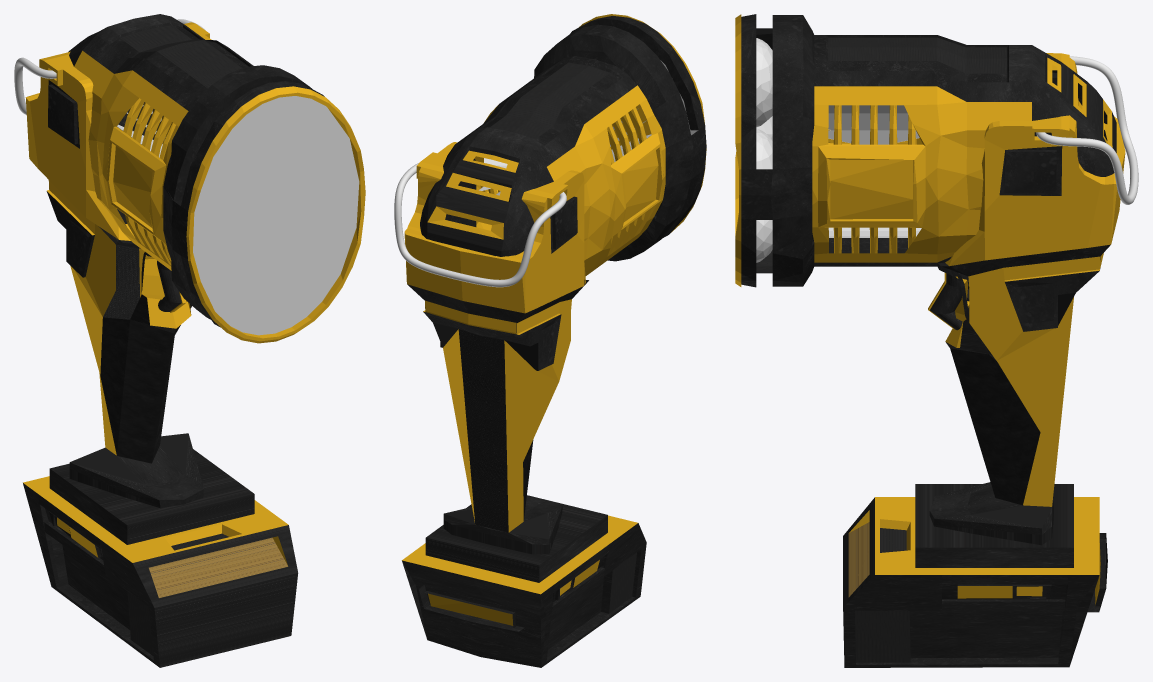
Rendered from uploads_files_3128481_1.fbx.
The picture shows the model from 3 angles, left to right: view 1: azimuth 30°, elevation 25°; view 2: azimuth 150°, elevation 25°; view 3: azimuth 270°, elevation 25°; orthographic projection. The views are drawn at different scales.
Parts seen in each view (by area): view 1: Куб, ТраекторияNurbs, Цилиндр.003; view 2: Куб, ТраекторияNurbs; view 3: Куб, ТраекторияNurbs, Цилиндр.003.
Part boxes in pixels (x1=…): Куб: x1=23, y1=14, x2=365, y2=667; ТраекторияNurbs: x1=14, y1=19, x2=205, y2=114; Цилиндр.003: x1=157, y1=260, x2=186, y2=312; Куб: x1=402, y1=14, x2=706, y2=667; ТраекторияNurbs: x1=394, y1=163, x2=566, y2=287; Куб: x1=735, y1=14, x2=1125, y2=667; ТраекторияNurbs: x1=1036, y1=56, x2=1138, y2=204; Цилиндр.003: x1=928, y1=272, x2=994, y2=358.
Bounding box in the file's own units: 149 × 474 × 282.
